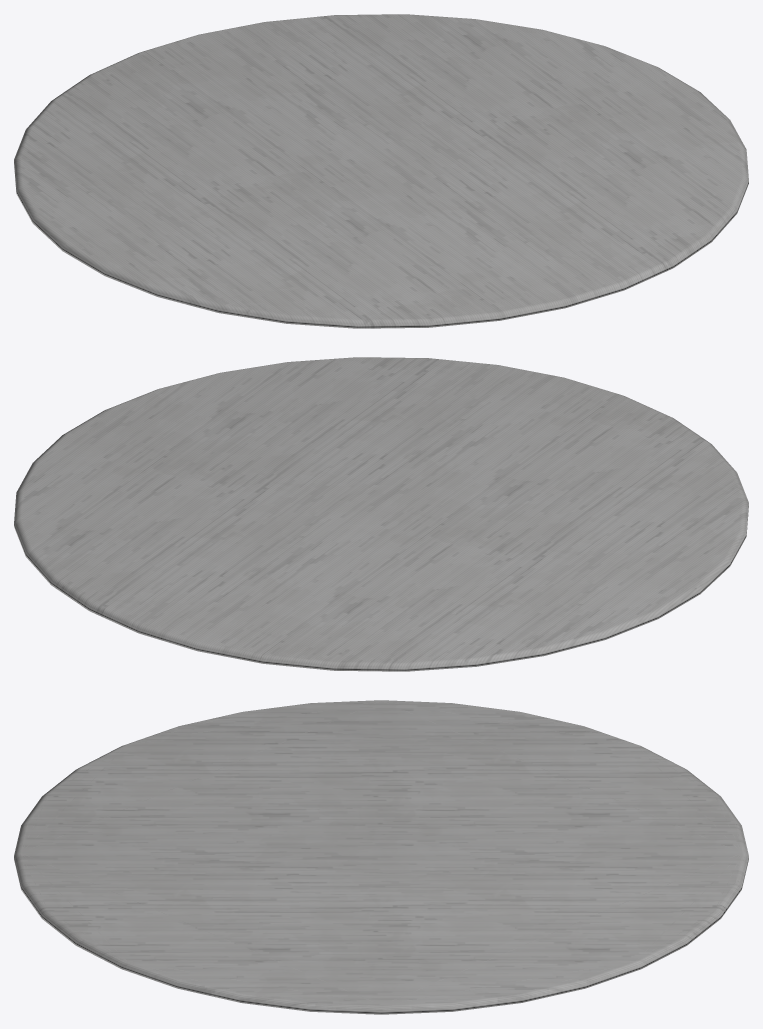
File: carpet_circle_small.glb
3 views of the same model, one above another, from view 1: azimuth 30°, elevation 25°; view 2: azimuth 150°, elevation 25°; view 3: azimuth 270°, elevation 25° (orthographic).
Visible parts, largest first — view 1: Circle.088; view 2: Circle.088; view 3: Circle.088.
Part boxes in pixels (x1,y1,x2,y2): Circle.088: (14, 14, 748, 328); Circle.088: (14, 357, 748, 671); Circle.088: (14, 700, 748, 1014).
Size of the model in its own units: 6.3 by 0.0605 by 6.3.
Materials: 1 (1 with a texture image).
